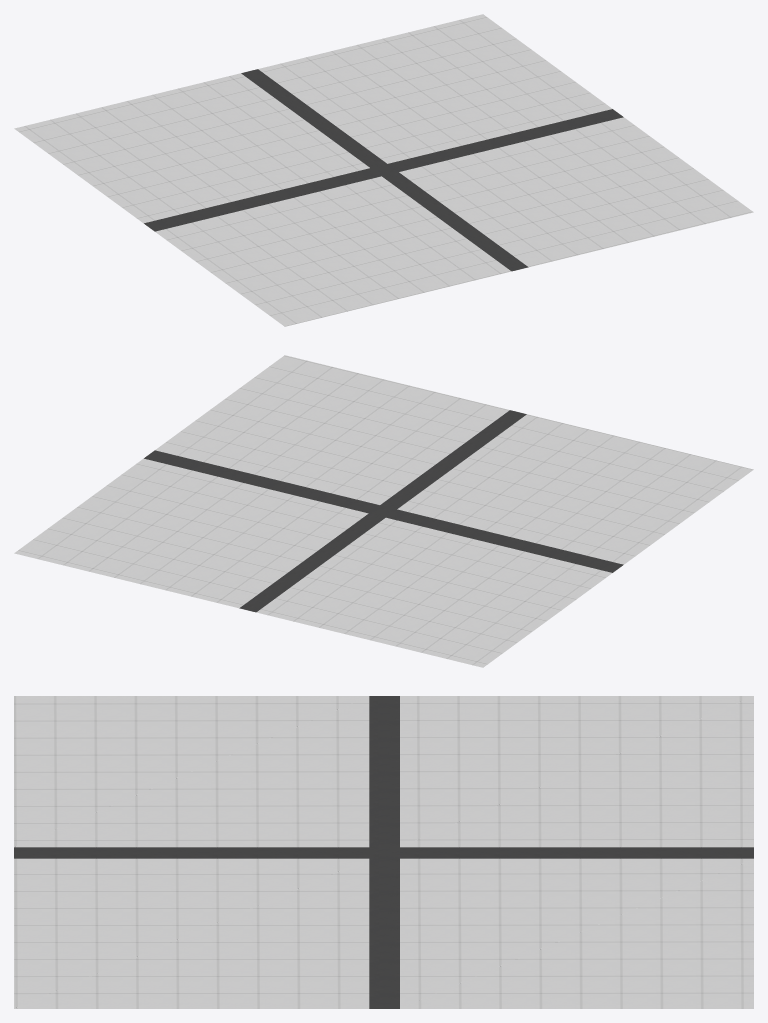
File: TrainingRoomGround.gltf
The picture shows the model from 3 angles, top to bottom: view 1: azimuth 30°, elevation 25°; view 2: azimuth 150°, elevation 25°; view 3: azimuth 270°, elevation 25°; orthographic projection. The views are drawn at different scales.
Parts seen in each view (by area): view 1: Cube; view 2: Cube; view 3: Cube.
Boxes of the visible parts, x1,y1,x2,y2 form: Cube: (14,14,753,326); Cube: (14,355,753,667); Cube: (14,696,753,1008).
Size of the model in its own units: 5 by 0 by 5.
2 materials, 2 textured.
